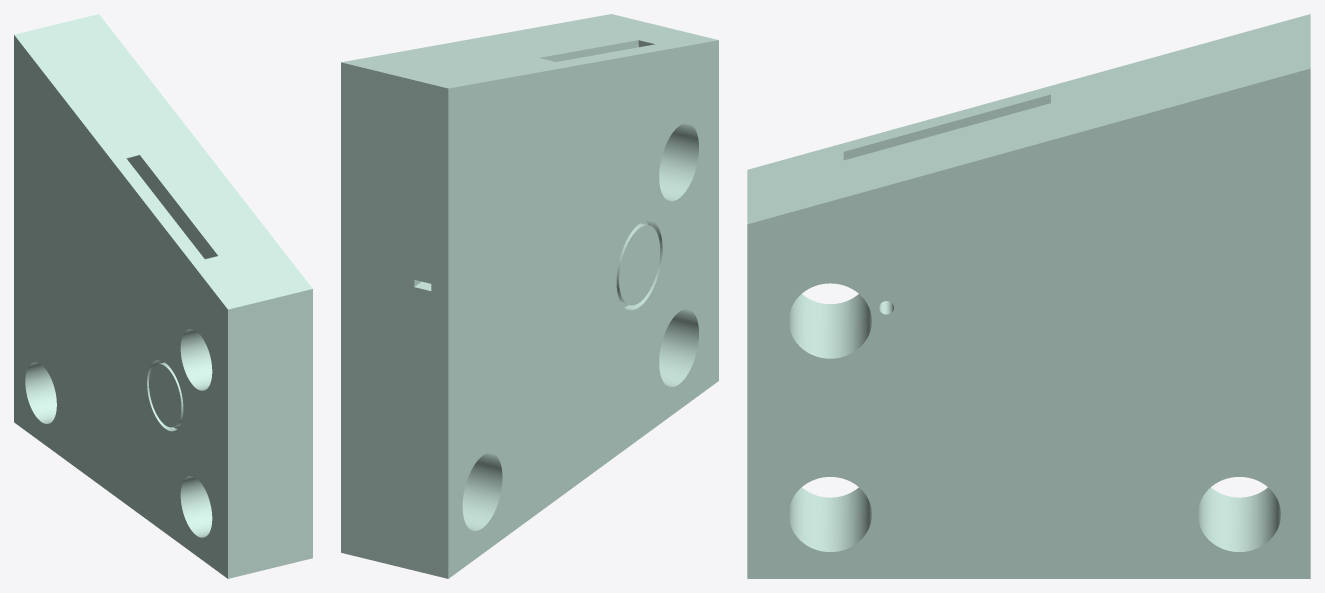
3 views of the same model, side by side, from view 1: azimuth 30°, elevation 25°; view 2: azimuth 150°, elevation 25°; view 3: azimuth 270°, elevation 25° (orthographic). The views are drawn at different scales.
Visible parts, largest first — view 1: Renderer Node; view 2: Renderer Node; view 3: Renderer Node.
Boxes of the visible parts, box(x1,y1,x2,y2) form: Renderer Node: box(14, 14, 312, 578); Renderer Node: box(341, 14, 718, 578); Renderer Node: box(747, 14, 1310, 578).
Bounding box in the file's own units: 0.3438 × 1.5 × 1.5.
